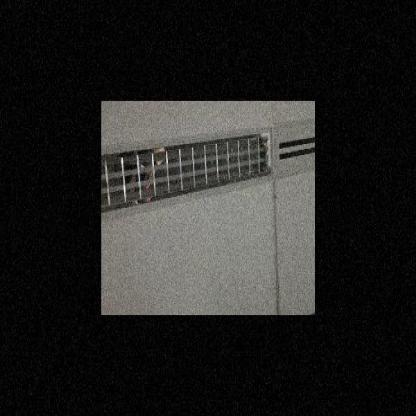light_off: (102, 122, 272, 218)
